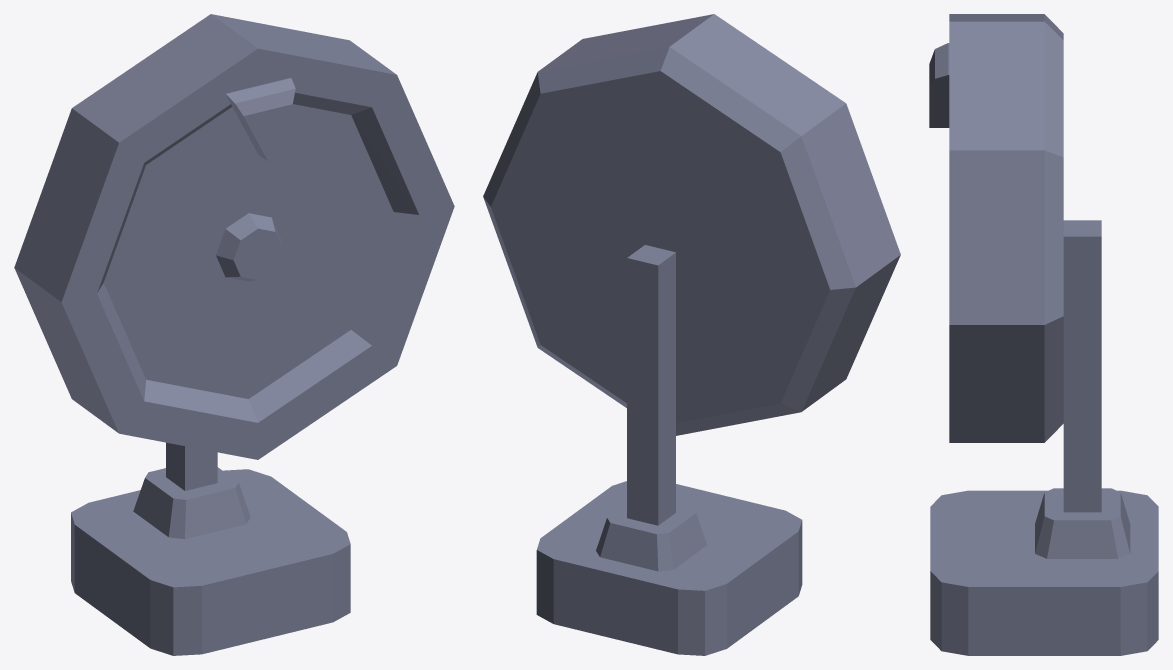
The model's file is prize-wheel.obj.
3 renders of one model, left to right at view 1: azimuth 30°, elevation 25°; view 2: azimuth 150°, elevation 25°; view 3: azimuth 270°, elevation 25°, orthographic. The views are drawn at different scales.
Size of the model in its own units: 0.6 by 0.85 by 0.3015.
